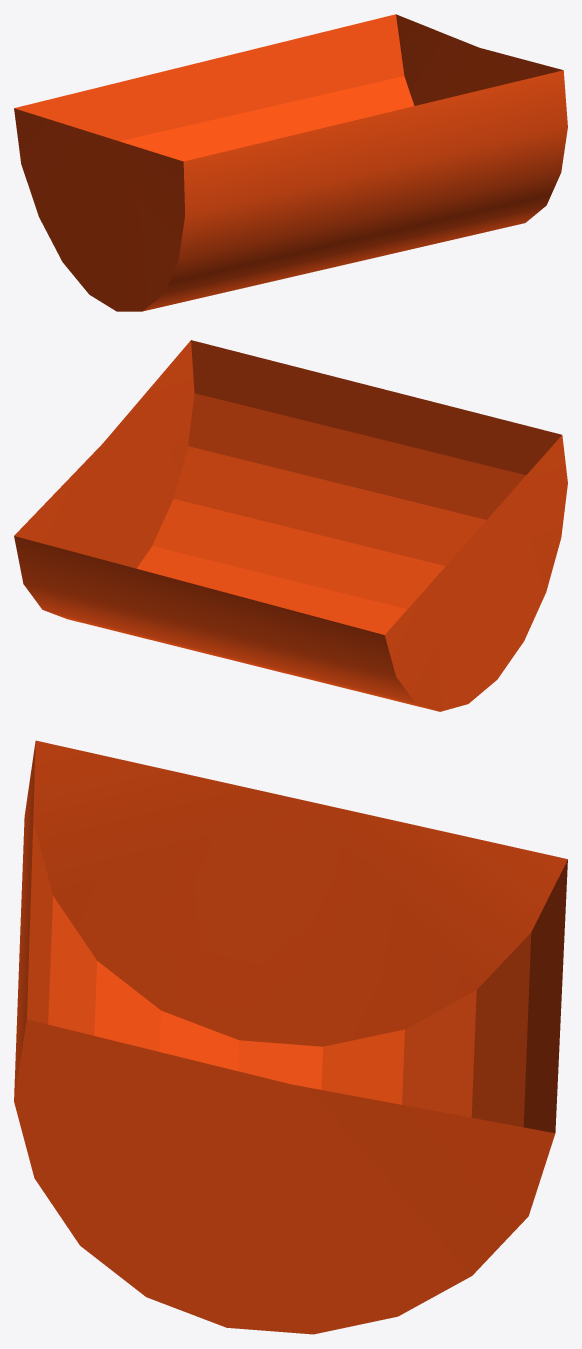
Rendered from Tanque3.fbx.
3 views of the same model, one above another, from view 1: azimuth 30°, elevation 25°; view 2: azimuth 150°, elevation 25°; view 3: azimuth 270°, elevation 25° (orthographic). The views are drawn at different scales.
Parts seen in each view (by area): view 1: Tanque3; view 2: Tanque3; view 3: Tanque3.
Boxes of the visible parts, bbox=[...] form: Tanque3: bbox=[14, 14, 567, 311]; Tanque3: bbox=[14, 340, 567, 711]; Tanque3: bbox=[14, 740, 567, 1334].
Bounding box in the file's own units: 849 × 433 × 694.
